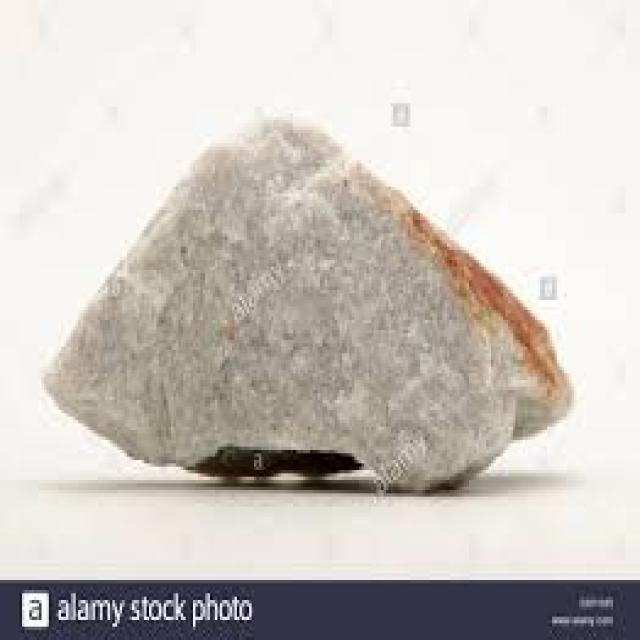Metamorphic: (73, 123, 596, 500)
